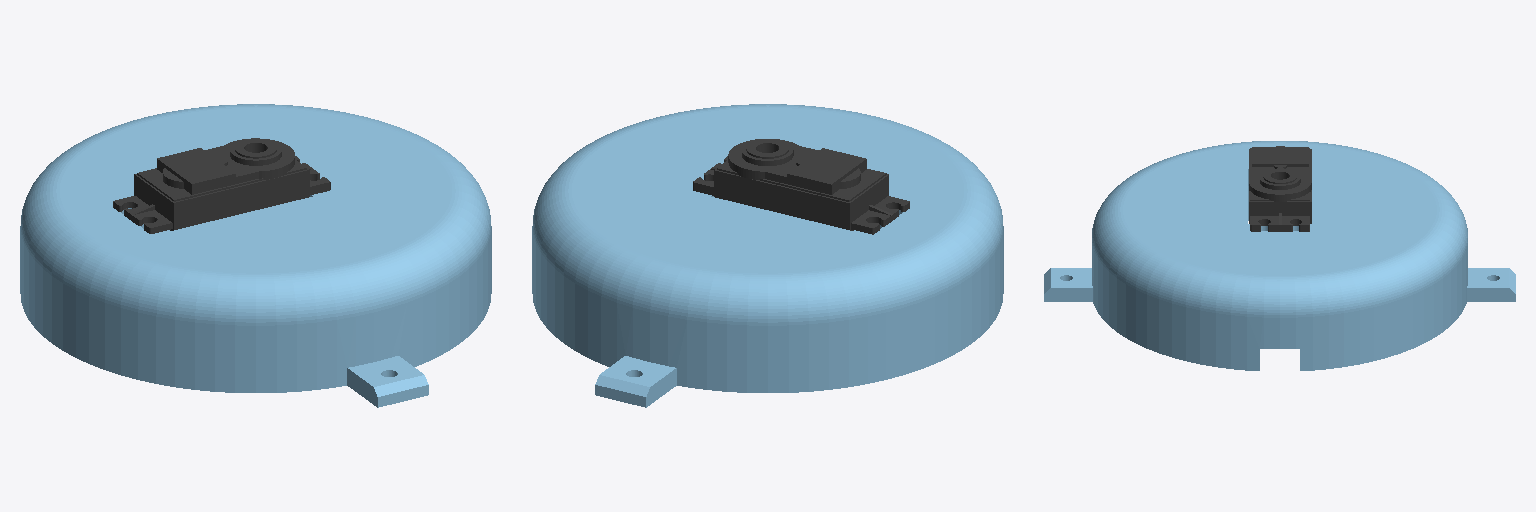
robot.urdf — robot_arm_description:
<?xml version="1.0" ?>
<!-- Generated using onshape-to-robot -->
<!-- Onshape document_id: a60c130b936cc49845e64be8 / workspace_id: 5dd6517471cd705938c34336 -->
<robot name="robot_arm_description">
  <!-- Link base -->
  <link name="base">
    <inertial>
      <origin xyz="-0.00276498 2.36186e-05 0.0191522" rpy="0 0 0"/>
      <mass value="0.166326"/>
      <inertia ixx="0.000179416" ixy="3.0512e-08" ixz="-8.17984e-07" iyy="0.000170528" iyz="-2.807e-09" izz="0.000321583"/>
    </inertial>
    <!-- Part base -->
    <visual>
      <origin xyz="-0.000621801 0 0.0285404" rpy="0 -0 0"/>
      <geometry>
        <mesh filename="package://robot_arm_description/meshes/base.stl"/>
      </geometry>
      <material name="base_material">
        <color rgba="0.615686 0.811765 0.929412 1"/>
      </material>
    </visual>
    <collision>
      <origin xyz="-0.000621801 0 0.0285404" rpy="0 -0 0"/>
      <geometry>
        <mesh filename="package://robot_arm_description/meshes/base.stl"/>
      </geometry>
    </collision>
    <!-- Part servo1 -->
    <visual>
      <origin xyz="0.0097773 0.0001 0.000546342" rpy="1.5708 0 3.14159"/>
      <geometry>
        <mesh filename="package://robot_arm_description/meshes/servo1.stl"/>
      </geometry>
      <material name="servo1_material">
        <color rgba="0.301961 0.301961 0.301961 1"/>
      </material>
    </visual>
    <collision>
      <origin xyz="0.0097773 0.0001 0.000546342" rpy="1.5708 0 3.14159"/>
      <geometry>
        <mesh filename="package://robot_arm_description/meshes/servo1.stl"/>
      </geometry>
    </collision>
  </link>
</robot>

--- Render facts (derived) ---
3 views of the same robot in one strip: view 1: azimuth 30°, elevation 25°; view 2: azimuth 150°, elevation 25°; view 3: azimuth 270°, elevation 25° (orthographic).
Robot: robot_arm_description — 1 links, 0 joints (none); root link base; default pose: every joint at zero.
Visible links, largest first — view 1: base; view 2: base; view 3: base.
Boxes of the visible links, x1,y1,x2,y2 form: base: (20, 104, 491, 407); base: (532, 104, 1003, 407); base: (1044, 141, 1515, 370).
Bounding box of the posed robot: 0.12 × 0.15 × 0.041 m (x, y, z).
2 mesh visuals loaded from 2 distinct referenced files (2 binary STL).
